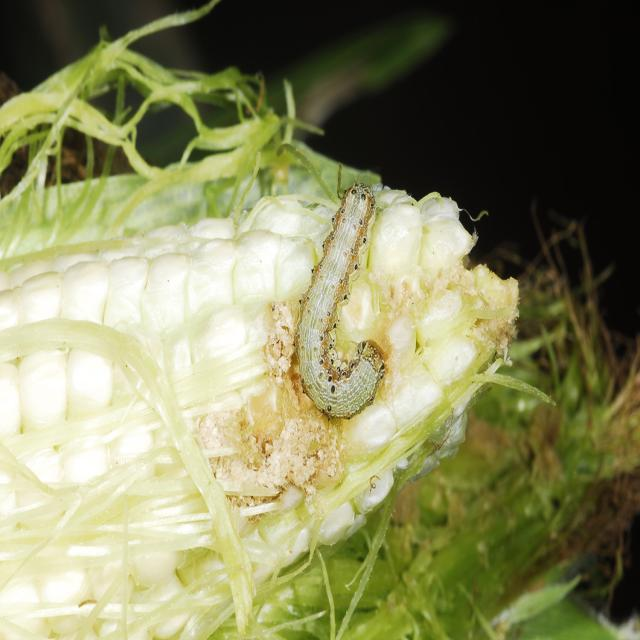Corn-earworm: (293, 172, 390, 419)
